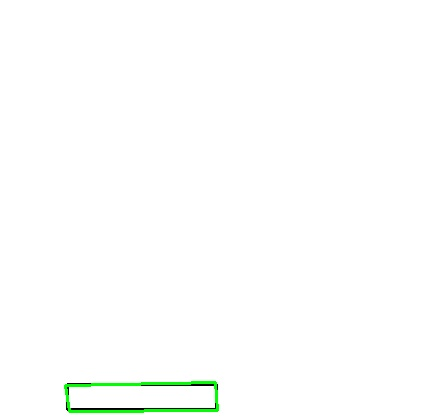line_segment: (65, 382, 218, 412)
